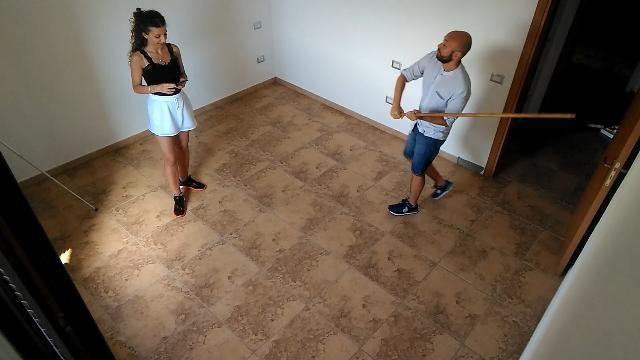non-violence: (125, 5, 213, 220)
violence: (378, 21, 574, 222)
